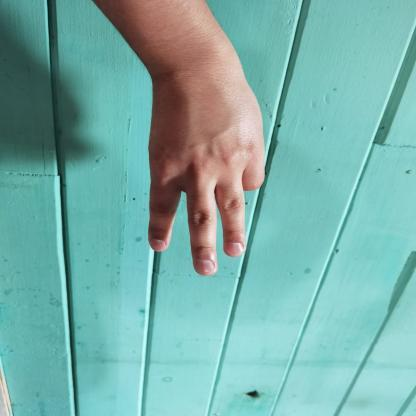M: (109, 52, 293, 291)
